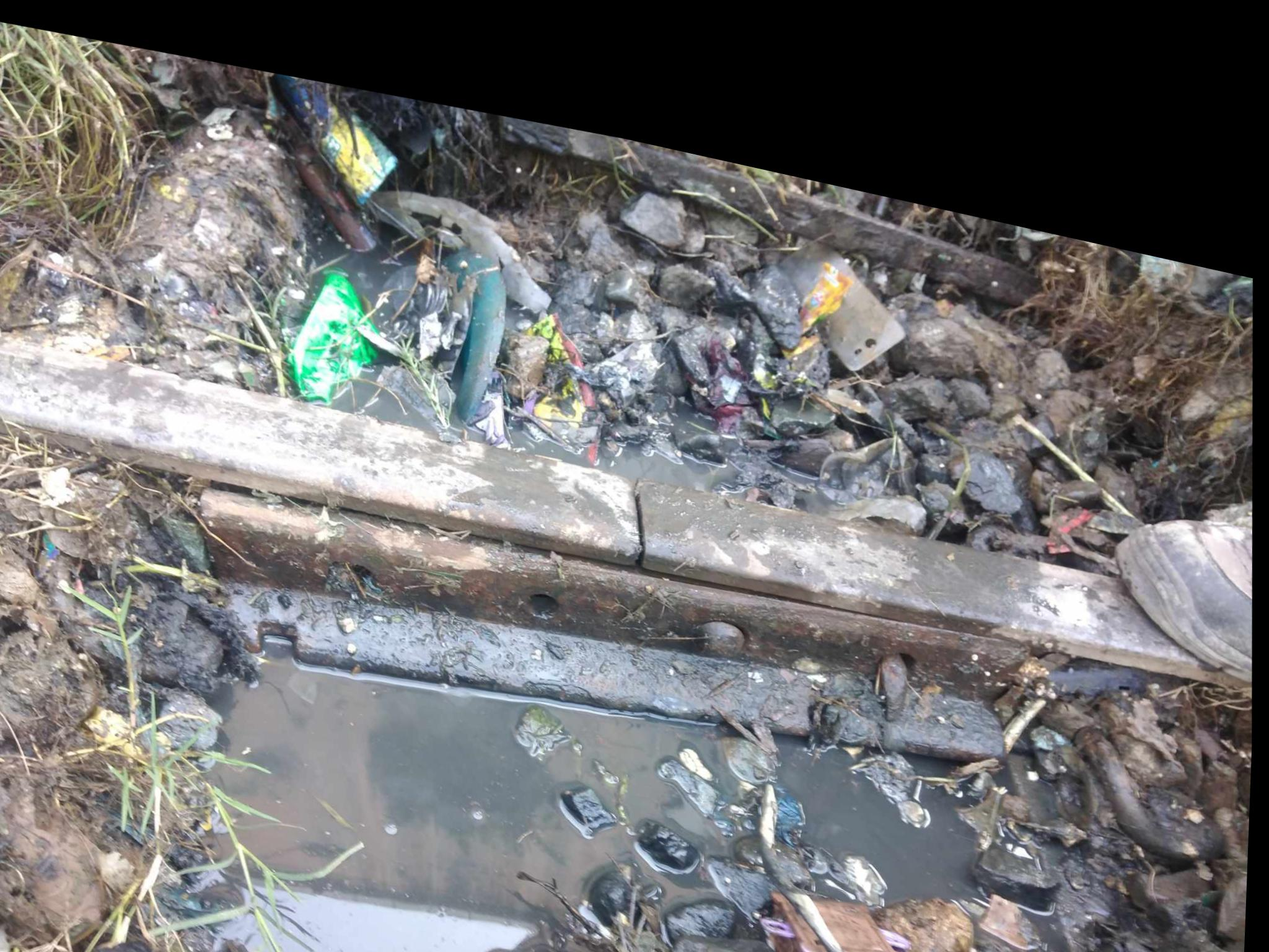person: (553, 399, 726, 594)
